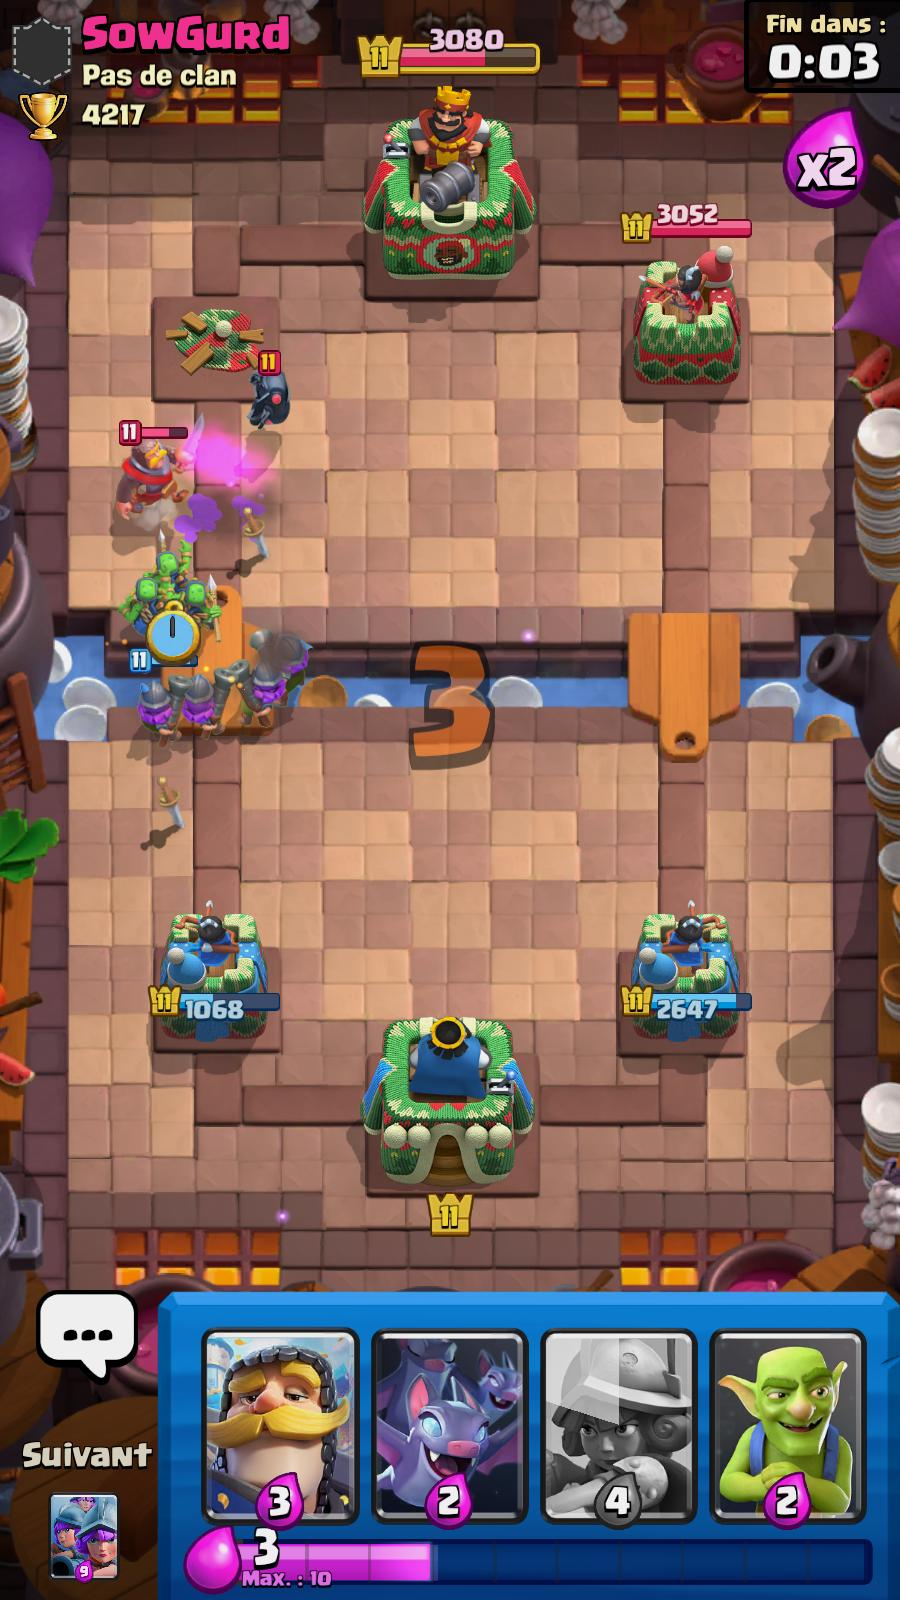chevalier: (115, 419, 200, 519)
gobelin_lances: (175, 575, 223, 632), (123, 574, 169, 625), (151, 541, 193, 585)
mini_PEKKA: (248, 349, 290, 434)
mousquetaire: (126, 648, 188, 740), (254, 625, 308, 703), (230, 663, 287, 735), (189, 665, 235, 747)
